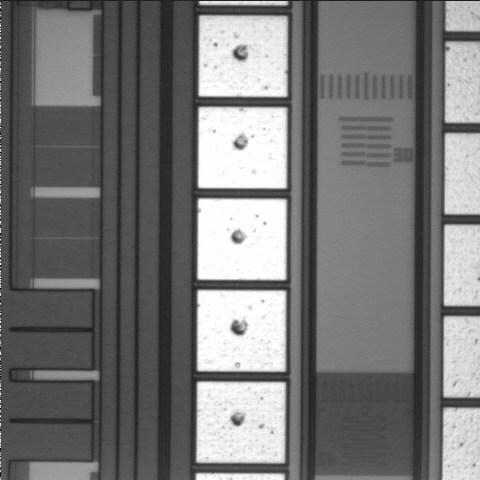pad: (198, 107, 287, 189), (197, 290, 286, 372), (196, 382, 286, 463), (198, 199, 287, 280), (199, 16, 287, 97)
